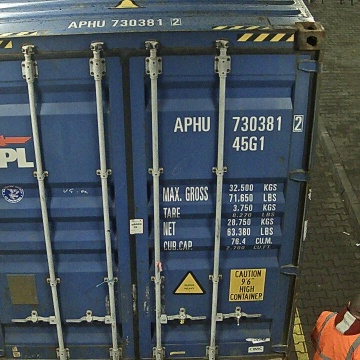serial_id: (172, 115, 302, 132)
